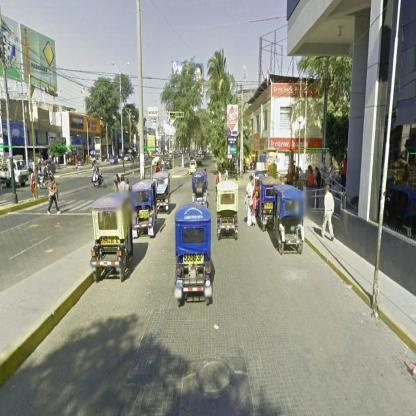Moto: (94, 164, 105, 188), (39, 174, 51, 192)
Peaton: (322, 186, 335, 243), (48, 177, 61, 218), (246, 176, 256, 225), (342, 153, 349, 193), (253, 191, 260, 227), (30, 168, 37, 201), (225, 170, 231, 181), (217, 172, 220, 187)
Pista: (1, 155, 416, 415), (1, 157, 183, 296)
Vehiculo: (92, 192, 136, 285), (175, 203, 212, 310), (273, 184, 305, 258), (133, 180, 159, 240), (217, 180, 239, 243), (258, 174, 281, 234), (2, 153, 29, 189), (154, 174, 172, 213), (192, 172, 209, 209), (190, 160, 198, 175), (111, 155, 119, 166), (166, 160, 173, 170)
